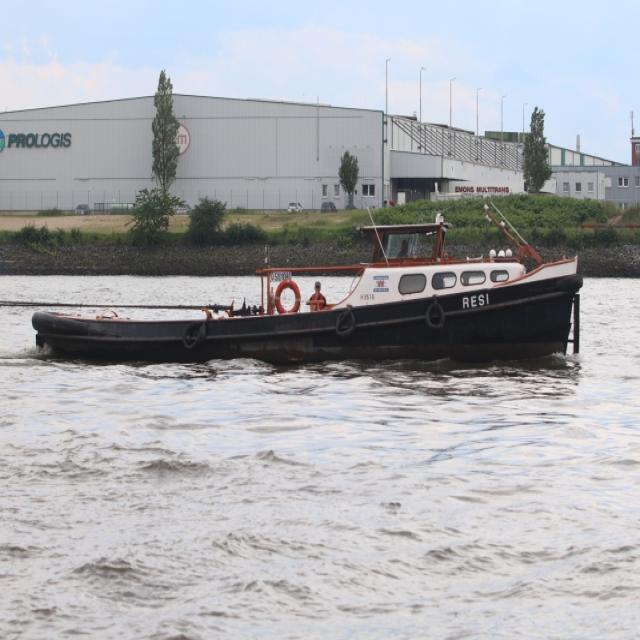tugboat: (30, 191, 589, 382)
